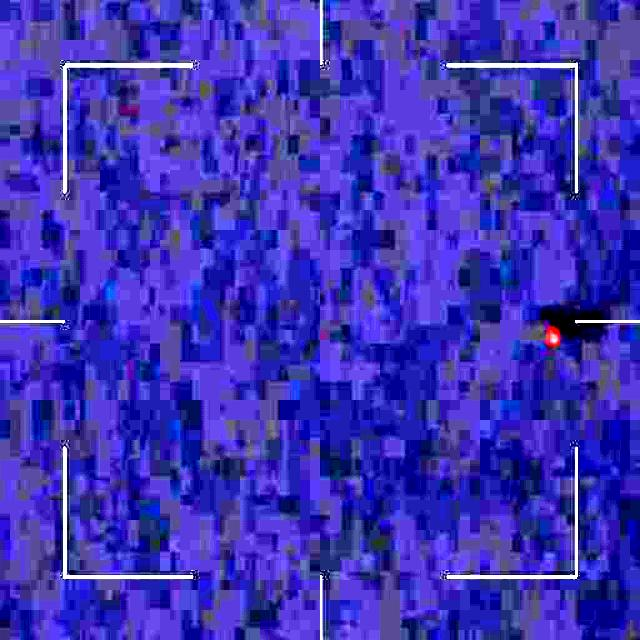bird: (541, 319, 570, 355)
